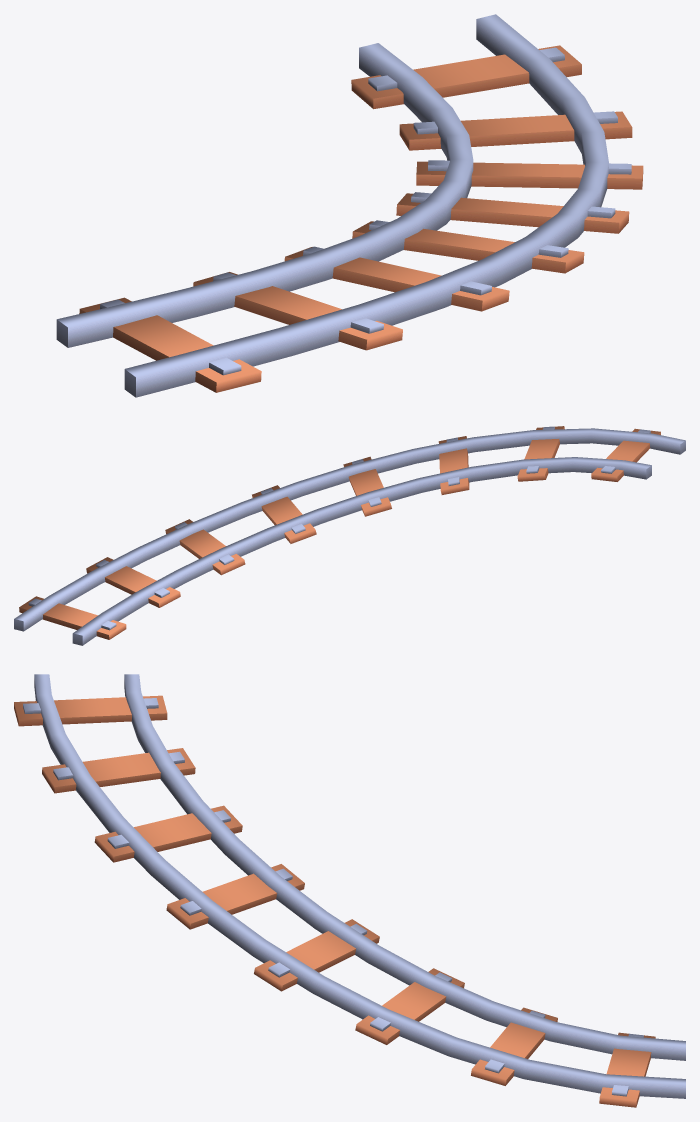
Rendered from kenney-train-railroad-corner-large-ramp.glb.
The picture shows the model from 3 angles, top to bottom: view 1: azimuth 30°, elevation 25°; view 2: azimuth 150°, elevation 25°; view 3: azimuth 270°, elevation 25°; orthographic projection. The views are drawn at different scales.
Parts seen in each view (by area): view 1: railroad-corner-large-ramp; view 2: railroad-corner-large-ramp; view 3: railroad-corner-large-ramp.
Part boxes in pixels (x1=…): railroad-corner-large-ramp: x1=56, y1=14, x2=643, y2=397; railroad-corner-large-ramp: x1=14, y1=426, x2=685, y2=645; railroad-corner-large-ramp: x1=14, y1=674, x2=685, y2=1107.
Size of the model in its own units: 4.49 by 1.1 by 4.49.
1 material, 1 textured.
